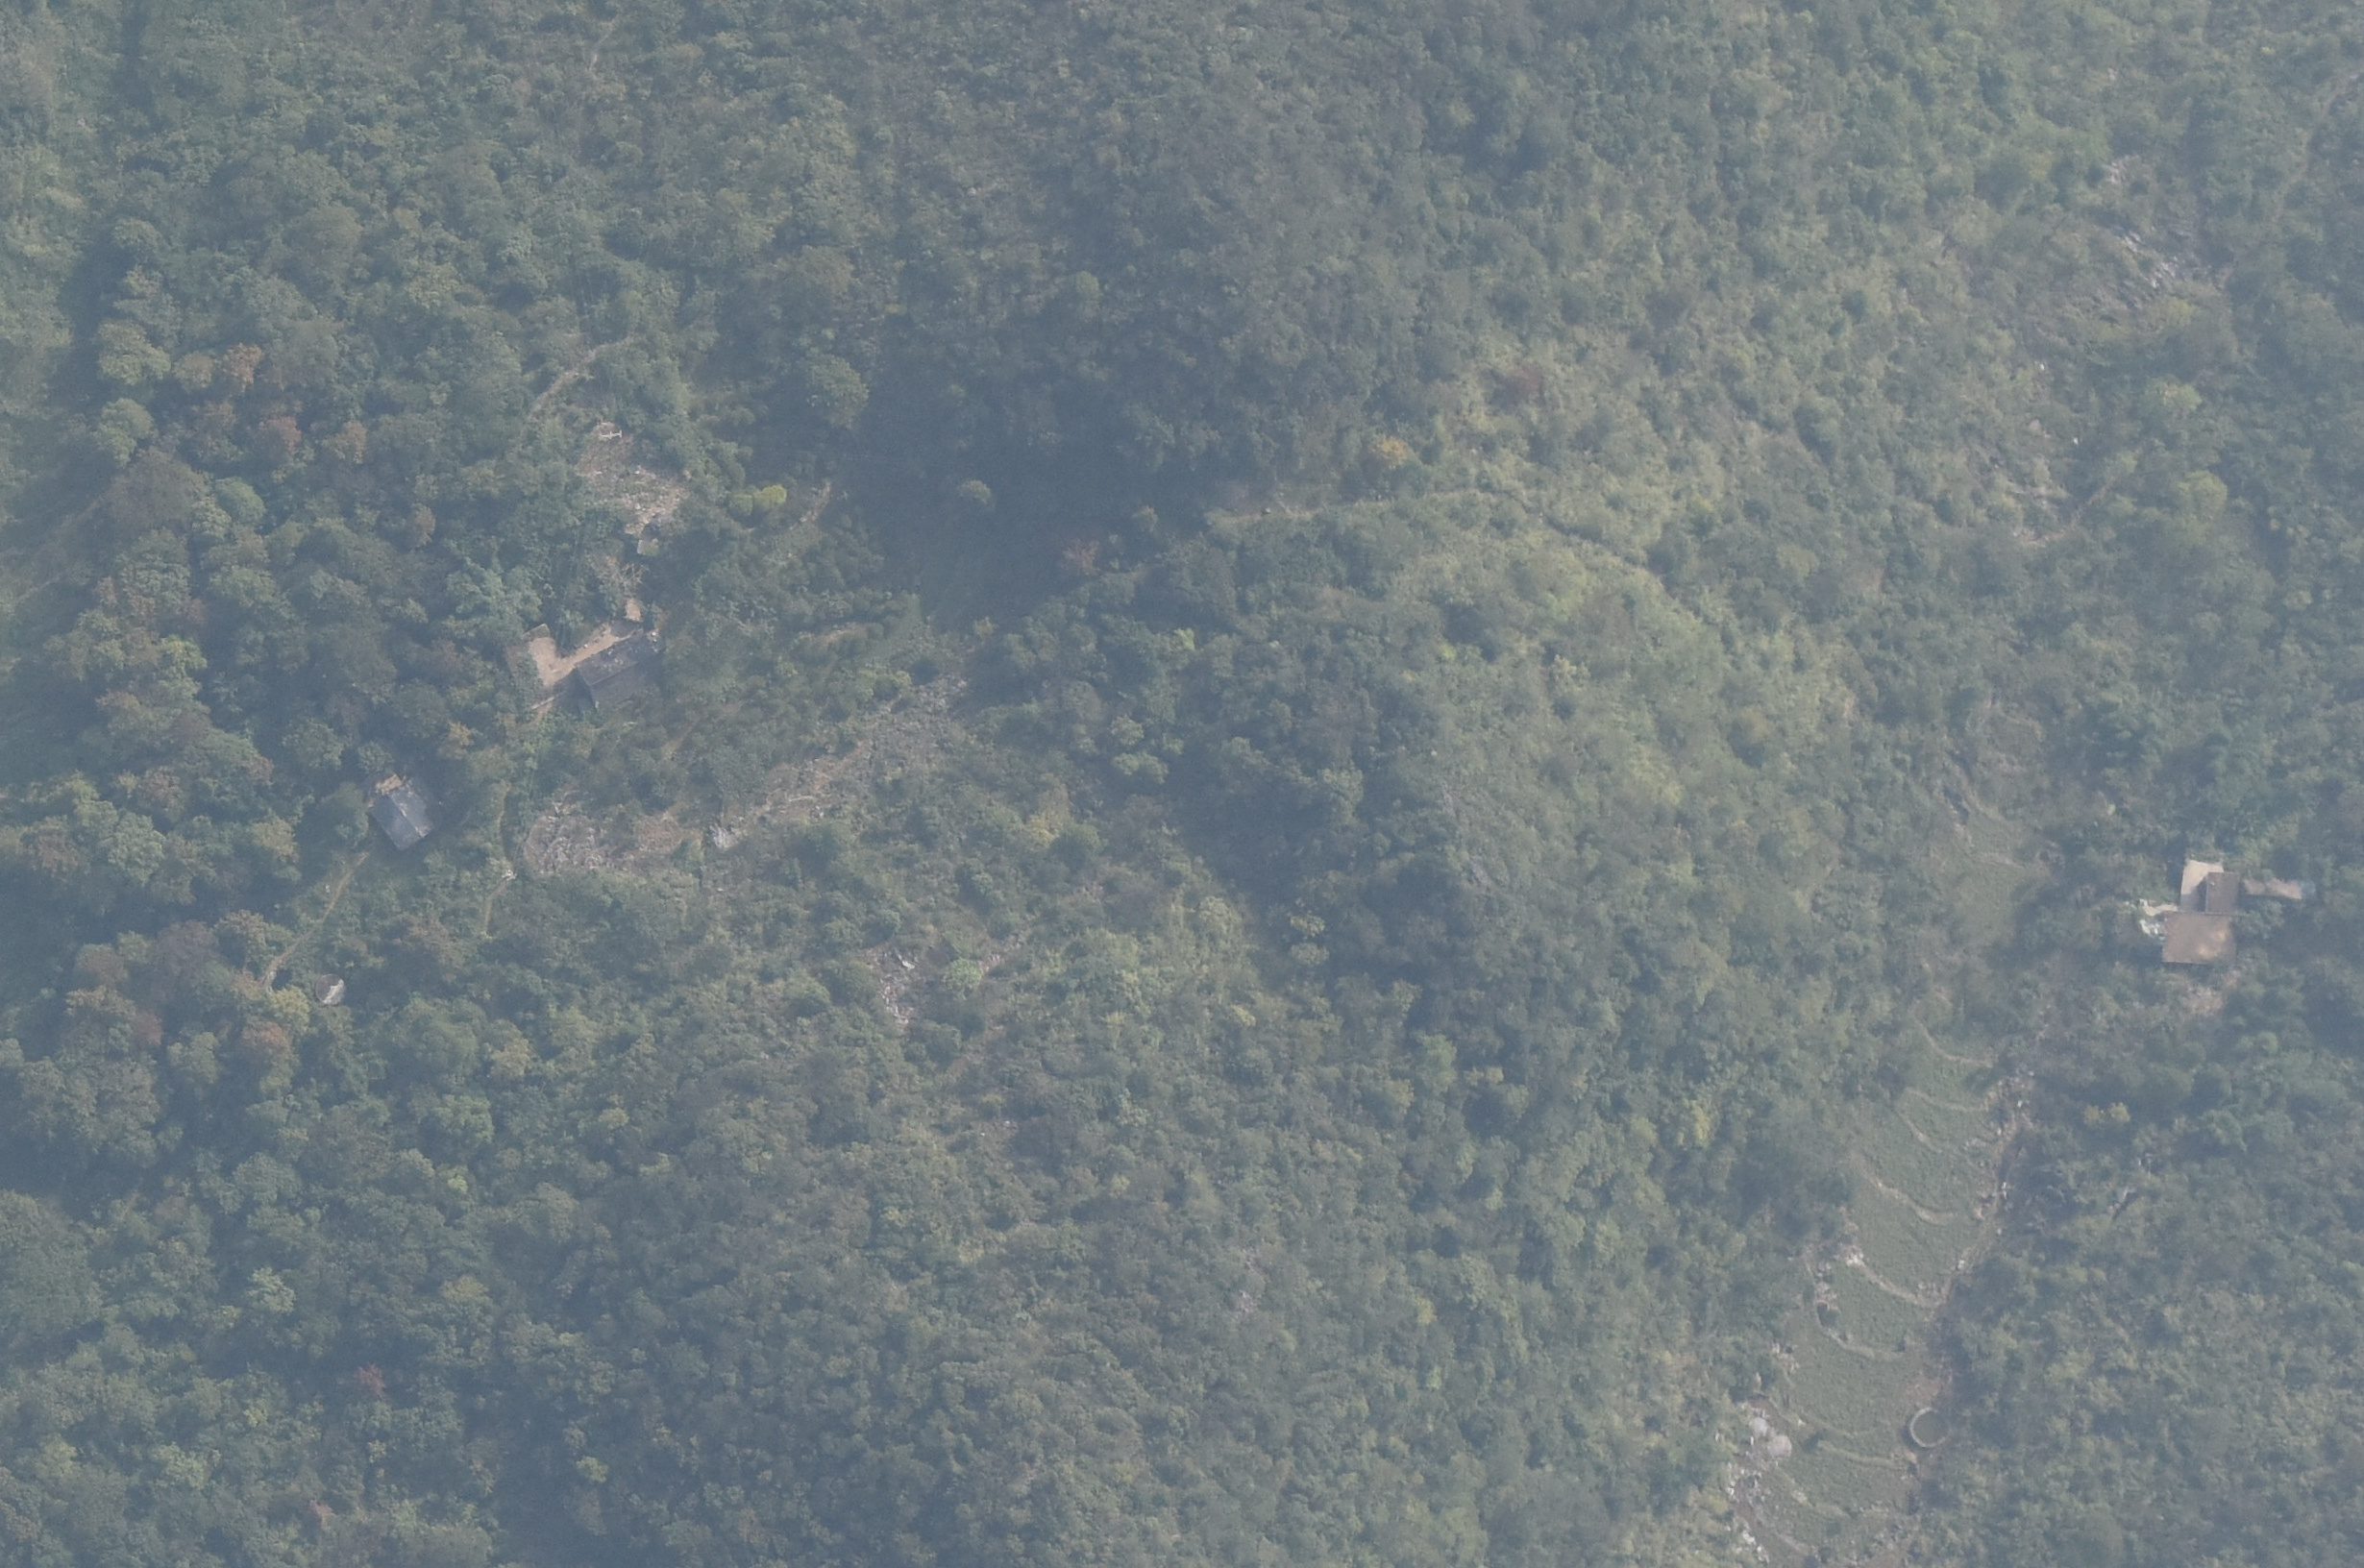building: (572, 629, 671, 713), (2157, 908, 2245, 968), (365, 794, 448, 849), (2242, 873, 2325, 910), (2204, 869, 2253, 918)
cable-tower: (589, 422, 629, 450)
well: (1908, 1406, 1957, 1450), (308, 964, 350, 1010)
